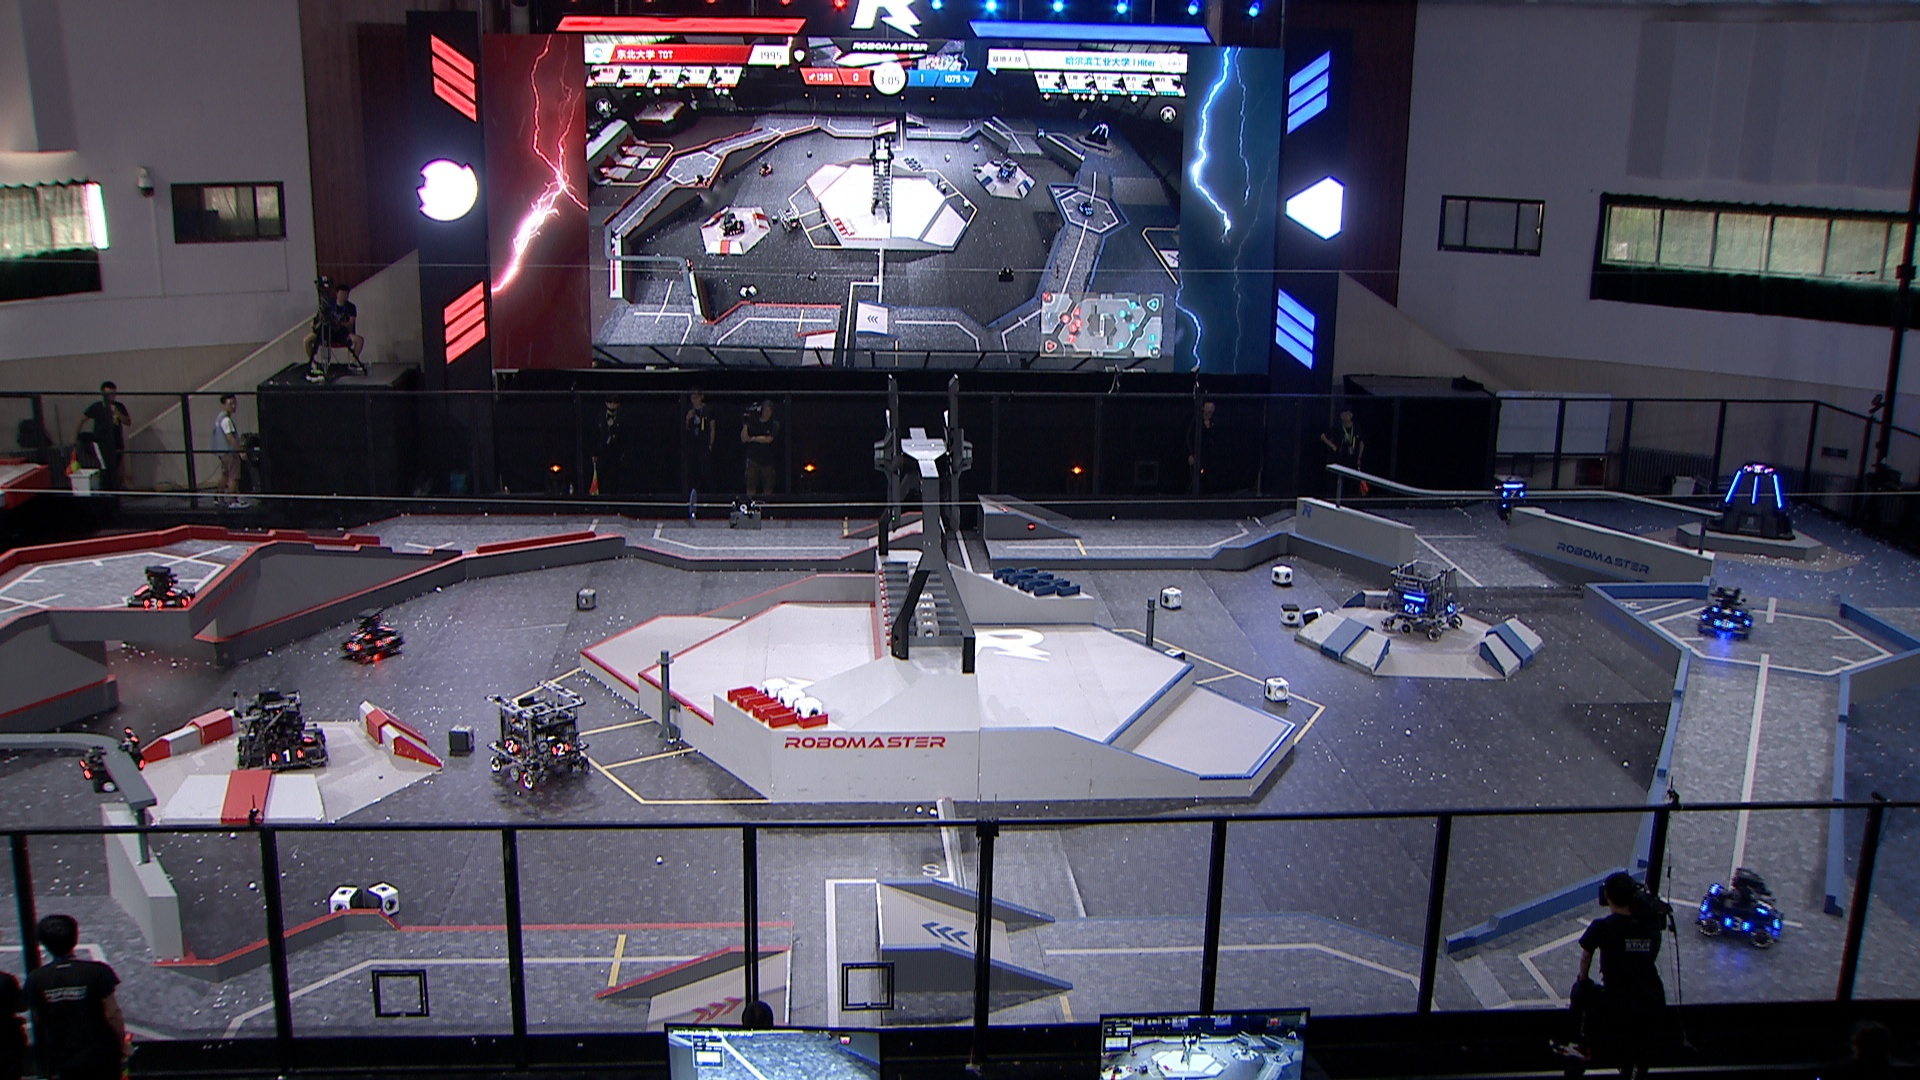armor: (266, 746, 305, 767), (1720, 915, 1754, 938), (1722, 465, 1743, 500), (1770, 471, 1787, 509), (74, 756, 95, 783), (1709, 603, 1745, 618), (1751, 893, 1775, 916), (309, 731, 328, 757), (1501, 485, 1528, 502), (549, 741, 572, 760), (1712, 613, 1735, 632), (138, 595, 164, 612), (500, 736, 520, 756), (164, 580, 183, 599), (177, 591, 196, 609), (1400, 600, 1423, 616), (371, 636, 394, 650), (299, 723, 314, 745), (348, 626, 371, 641), (1751, 473, 1760, 504), (343, 640, 361, 654), (1444, 600, 1460, 616)
base: (1698, 462, 1797, 543)
car: (485, 679, 593, 796), (233, 684, 334, 769), (1689, 866, 1788, 948), (1379, 556, 1466, 640), (125, 560, 200, 618), (338, 608, 405, 662), (1693, 585, 1756, 638)
ignore: (717, 210, 746, 237), (993, 156, 1021, 185), (1087, 123, 1114, 148), (779, 210, 802, 237), (1073, 199, 1098, 219), (1743, 463, 1774, 473)
watcher: (76, 723, 152, 798), (1489, 471, 1528, 524)
